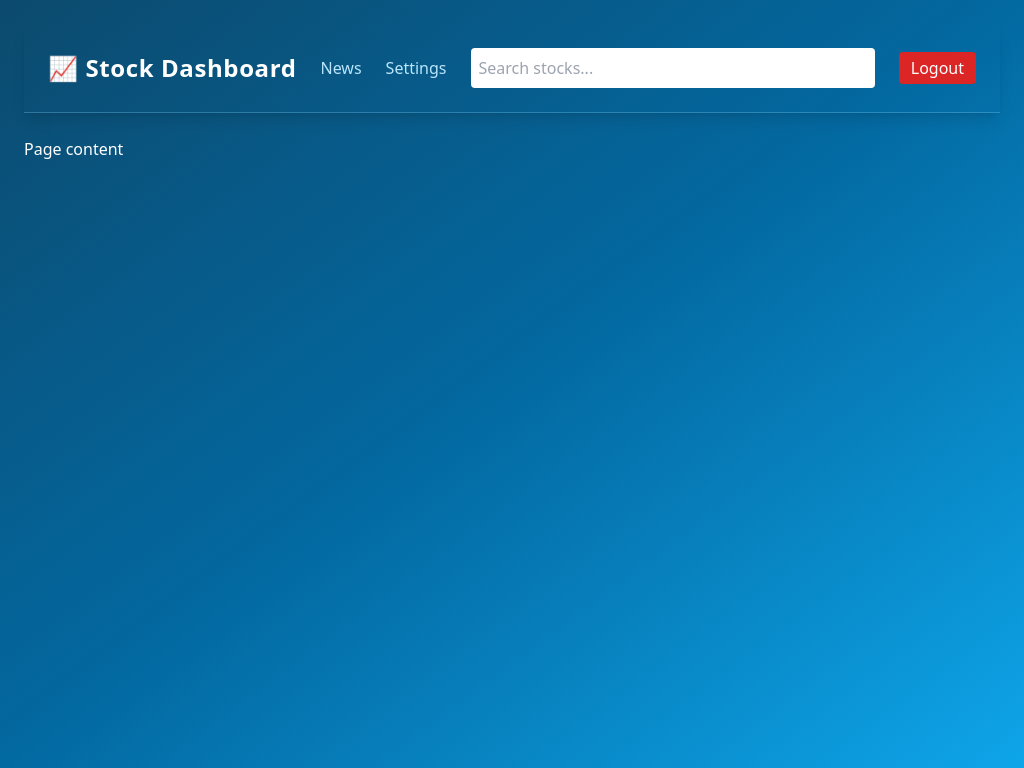
Test: Signed-in layout › opens the stock page for a picked suggestion and clears the search
In the field with placeholder "Search stocks...": (673,68) [470,48,875,88], type "apple"
Wait 300 ms
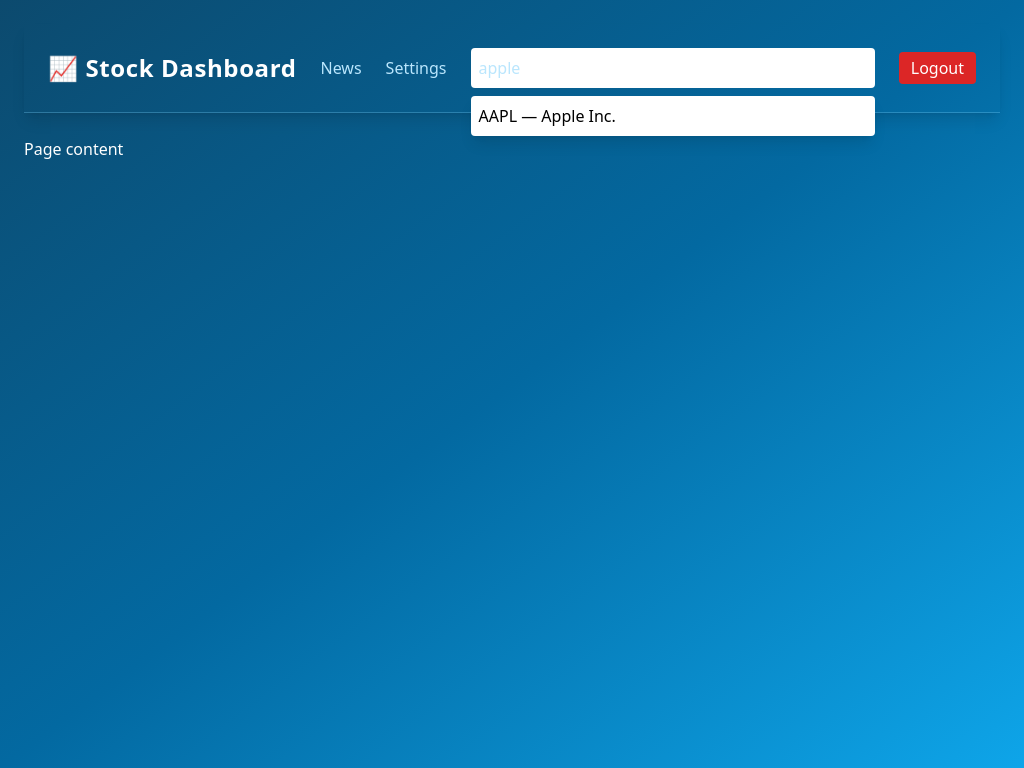
Click the list item "AAPL — Apple Inc.": (547,116) [478,105,616,127]
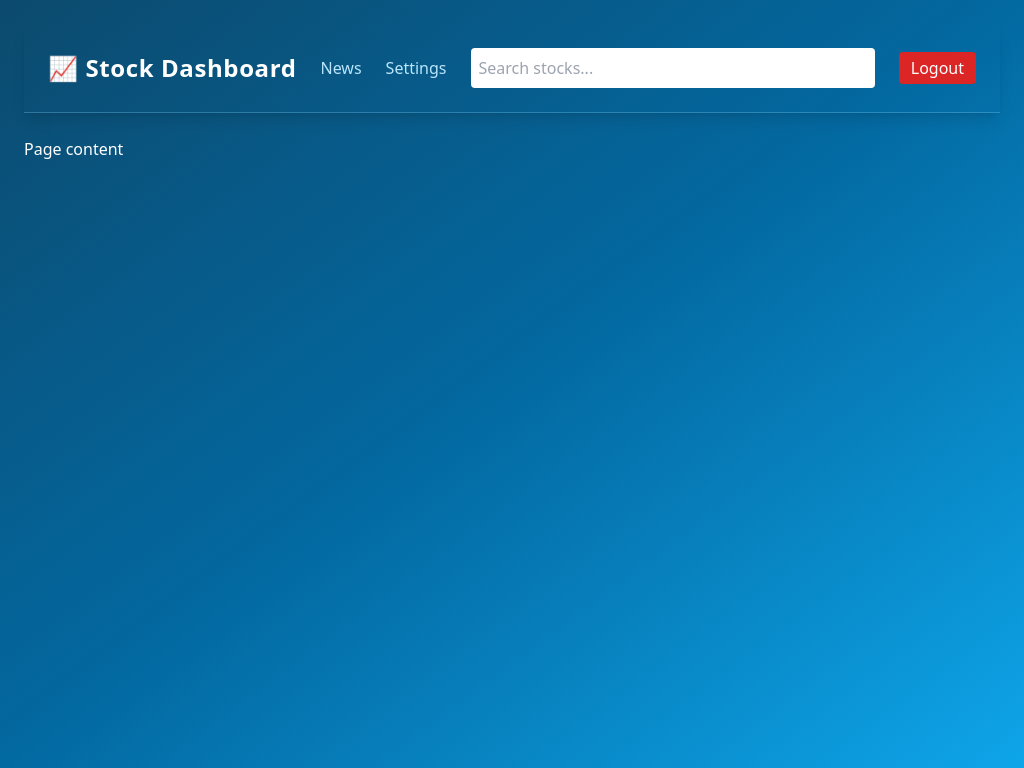
Check: the field with placeholder "Search stocks..." is empty, box [470,48,875,88]
Check: the list item "AAPL — Apple Inc." is gone
